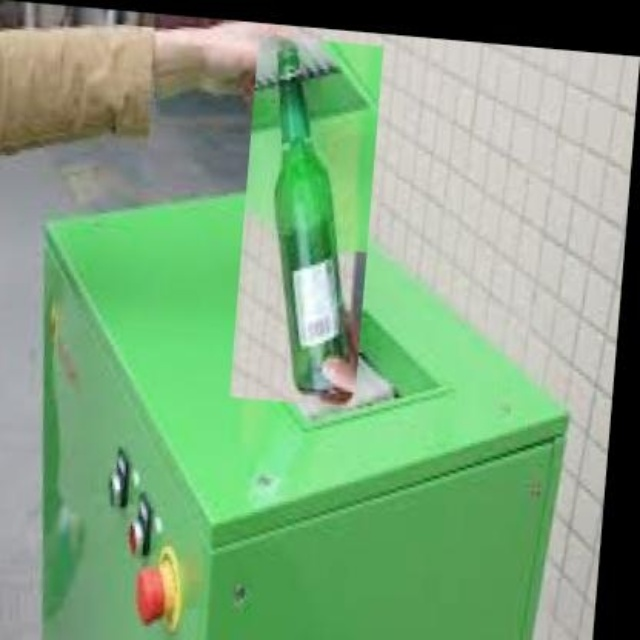trash: (274, 43, 357, 403)
